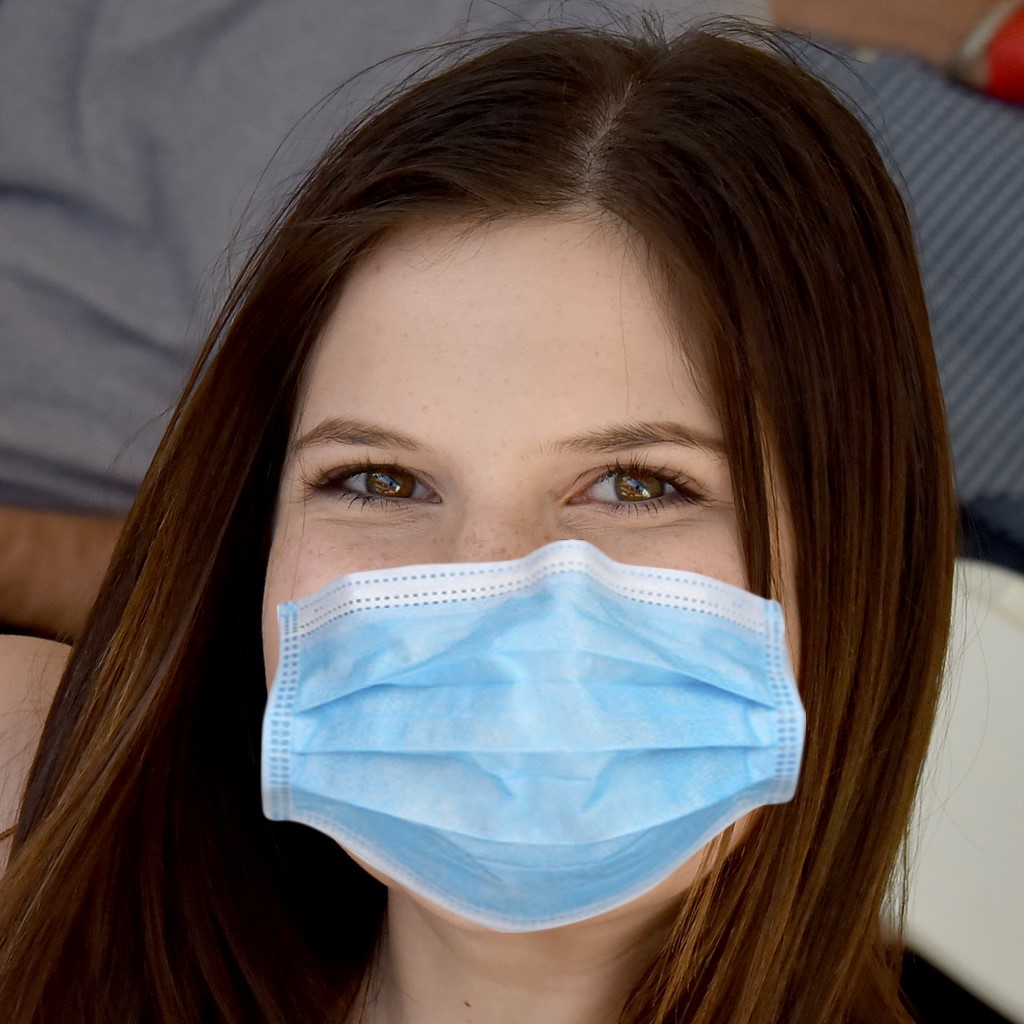con_mascara: (282, 216, 788, 923)
